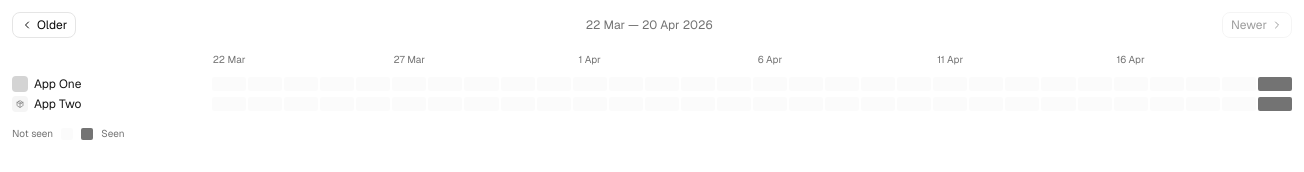
Scenario: AdHeatmap › enables 'Newer' button after navigating to older period
Click the button with aria-label "Previous period" at (44, 25), box [12,12,76,38]
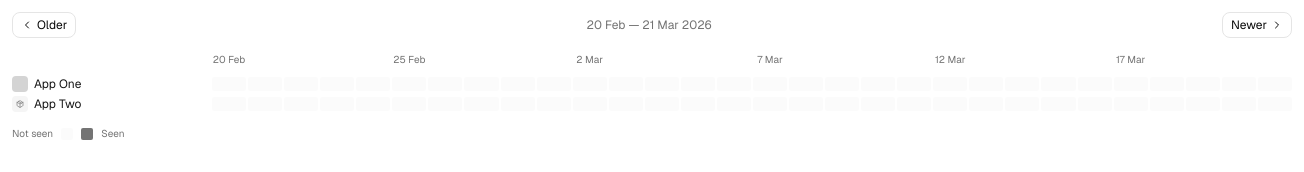
Now the button with aria-label "Next period" is enabled, box [1222,12,1292,38]
